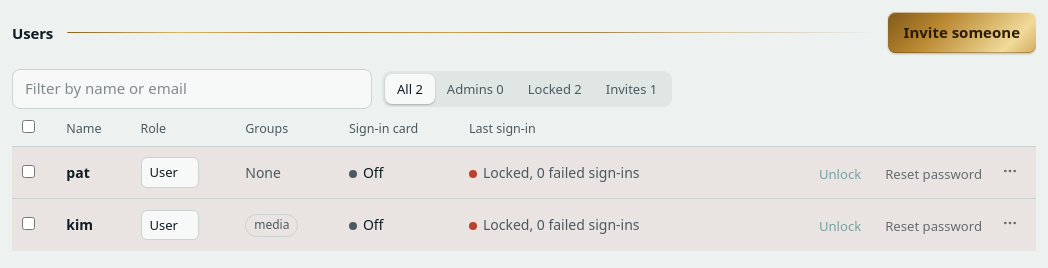
Test: UsersPanel bulk and invites › Invites segment lists API invites
This screenshot has width=1048, height=268.
What coordinates should you click on to do the following:
click the button "Invites 1"
I would click on:
 (632, 89)
Its box is [594, 74, 669, 104].
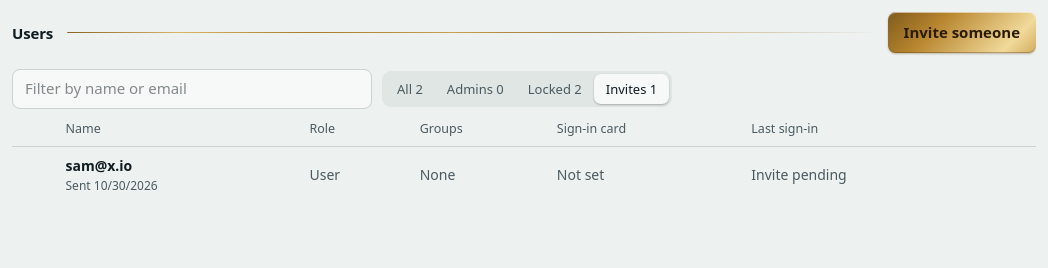
Result: the text "sam@x.io" is shown at [66, 156, 132, 175]
